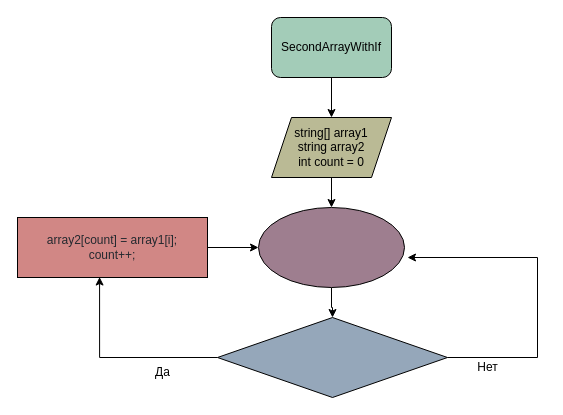
This 563x415 diagram has some shape labels left out. The centre of each missing label's shape, as x and y in pixels:
"for (int i = 0; i < array.Length; i++)" goes at (x=331, y=247).
"if(array1[i].Length <= 3)" goes at (x=332, y=357).
